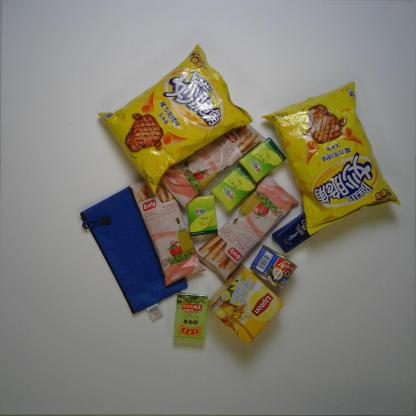Candy: (172, 288, 210, 349)
Canned Food: (245, 245, 298, 290)
Dessert: (196, 173, 300, 279), (160, 123, 266, 210), (129, 180, 207, 286)
Instant Drink: (207, 266, 281, 345)
Personal Hygiene: (271, 211, 326, 255)
Puffed Food: (96, 42, 254, 196), (262, 80, 402, 236)
Stationery: (80, 186, 189, 315)
Tissue: (209, 164, 258, 212), (238, 137, 288, 183), (185, 195, 218, 238)
